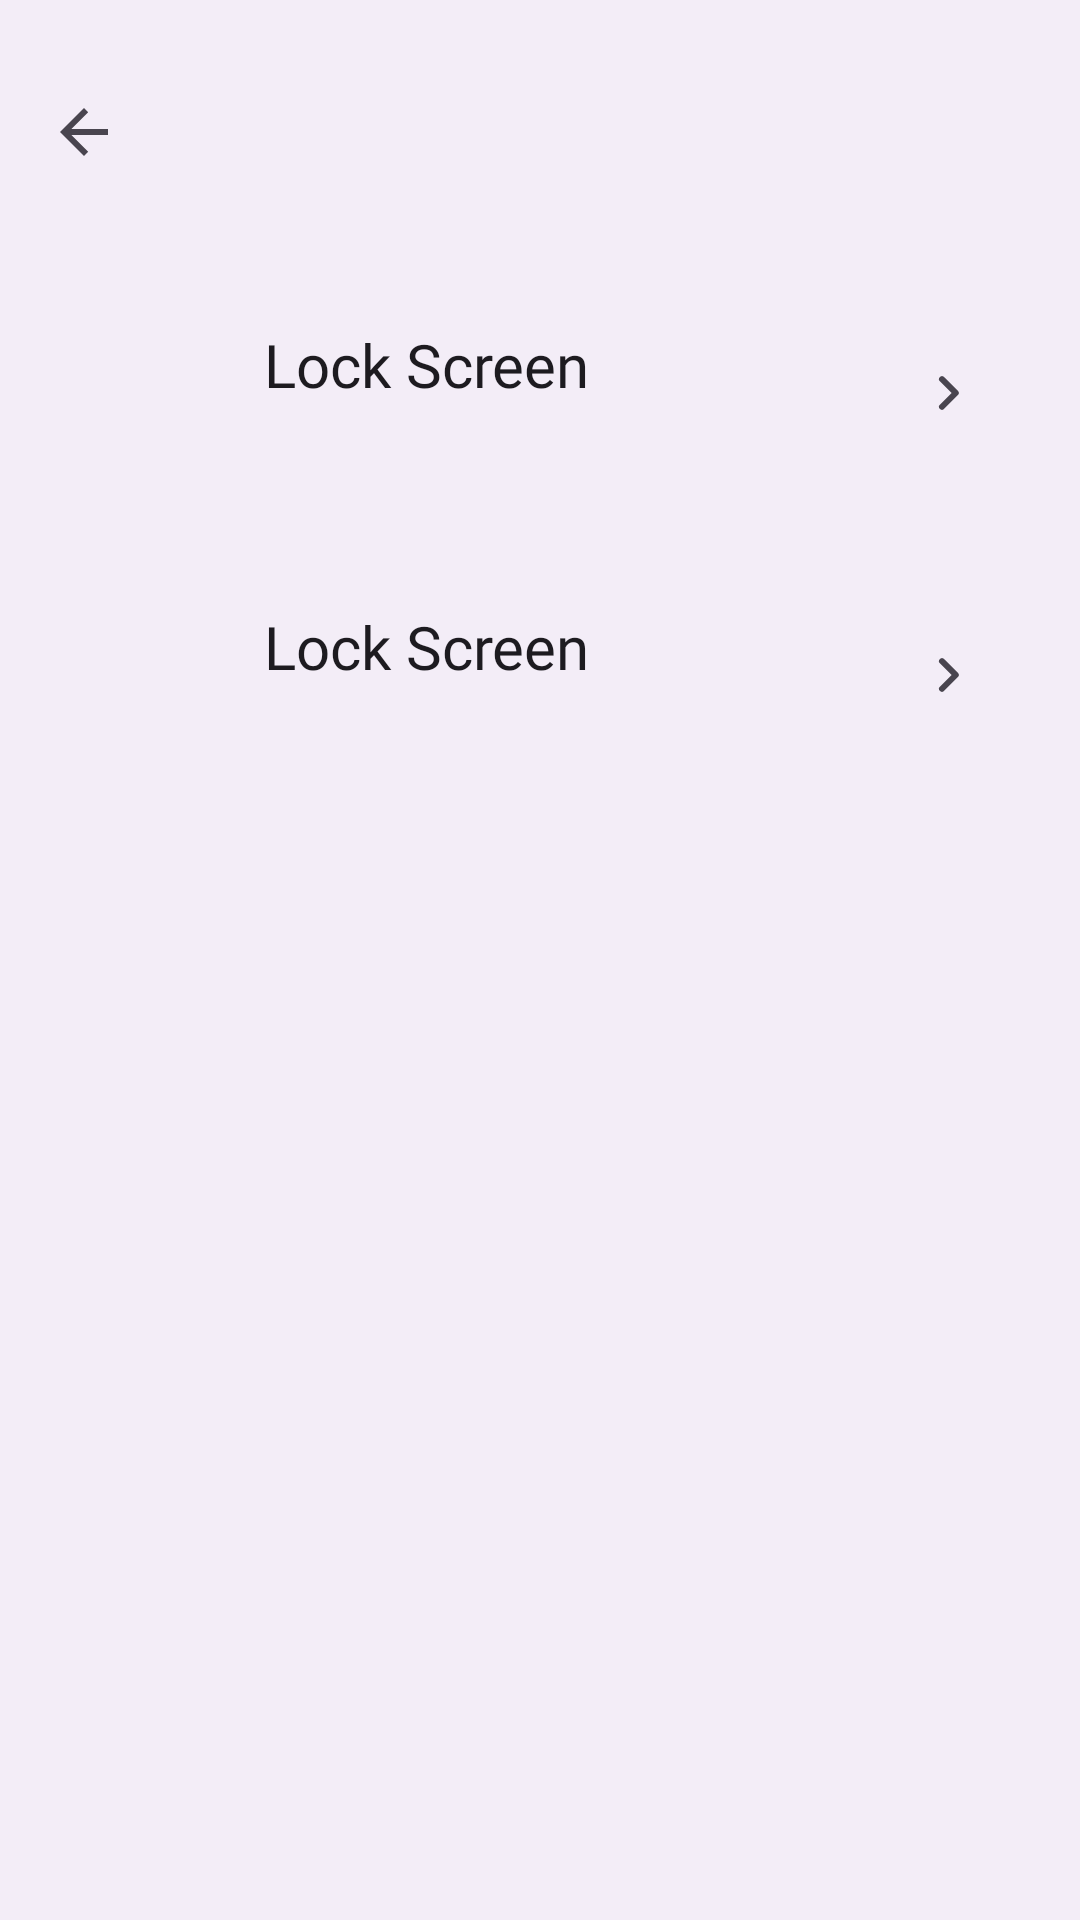

Where icons sit on this 1080 x 1920 app screen, as (x1, y1, x2, y2):
chevron right: (939, 376, 959, 410), (939, 658, 959, 692)
